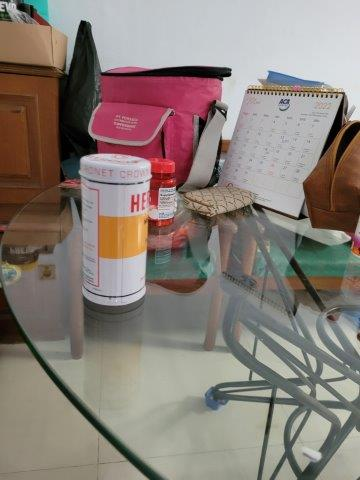kaleng: (79, 153, 152, 305)
